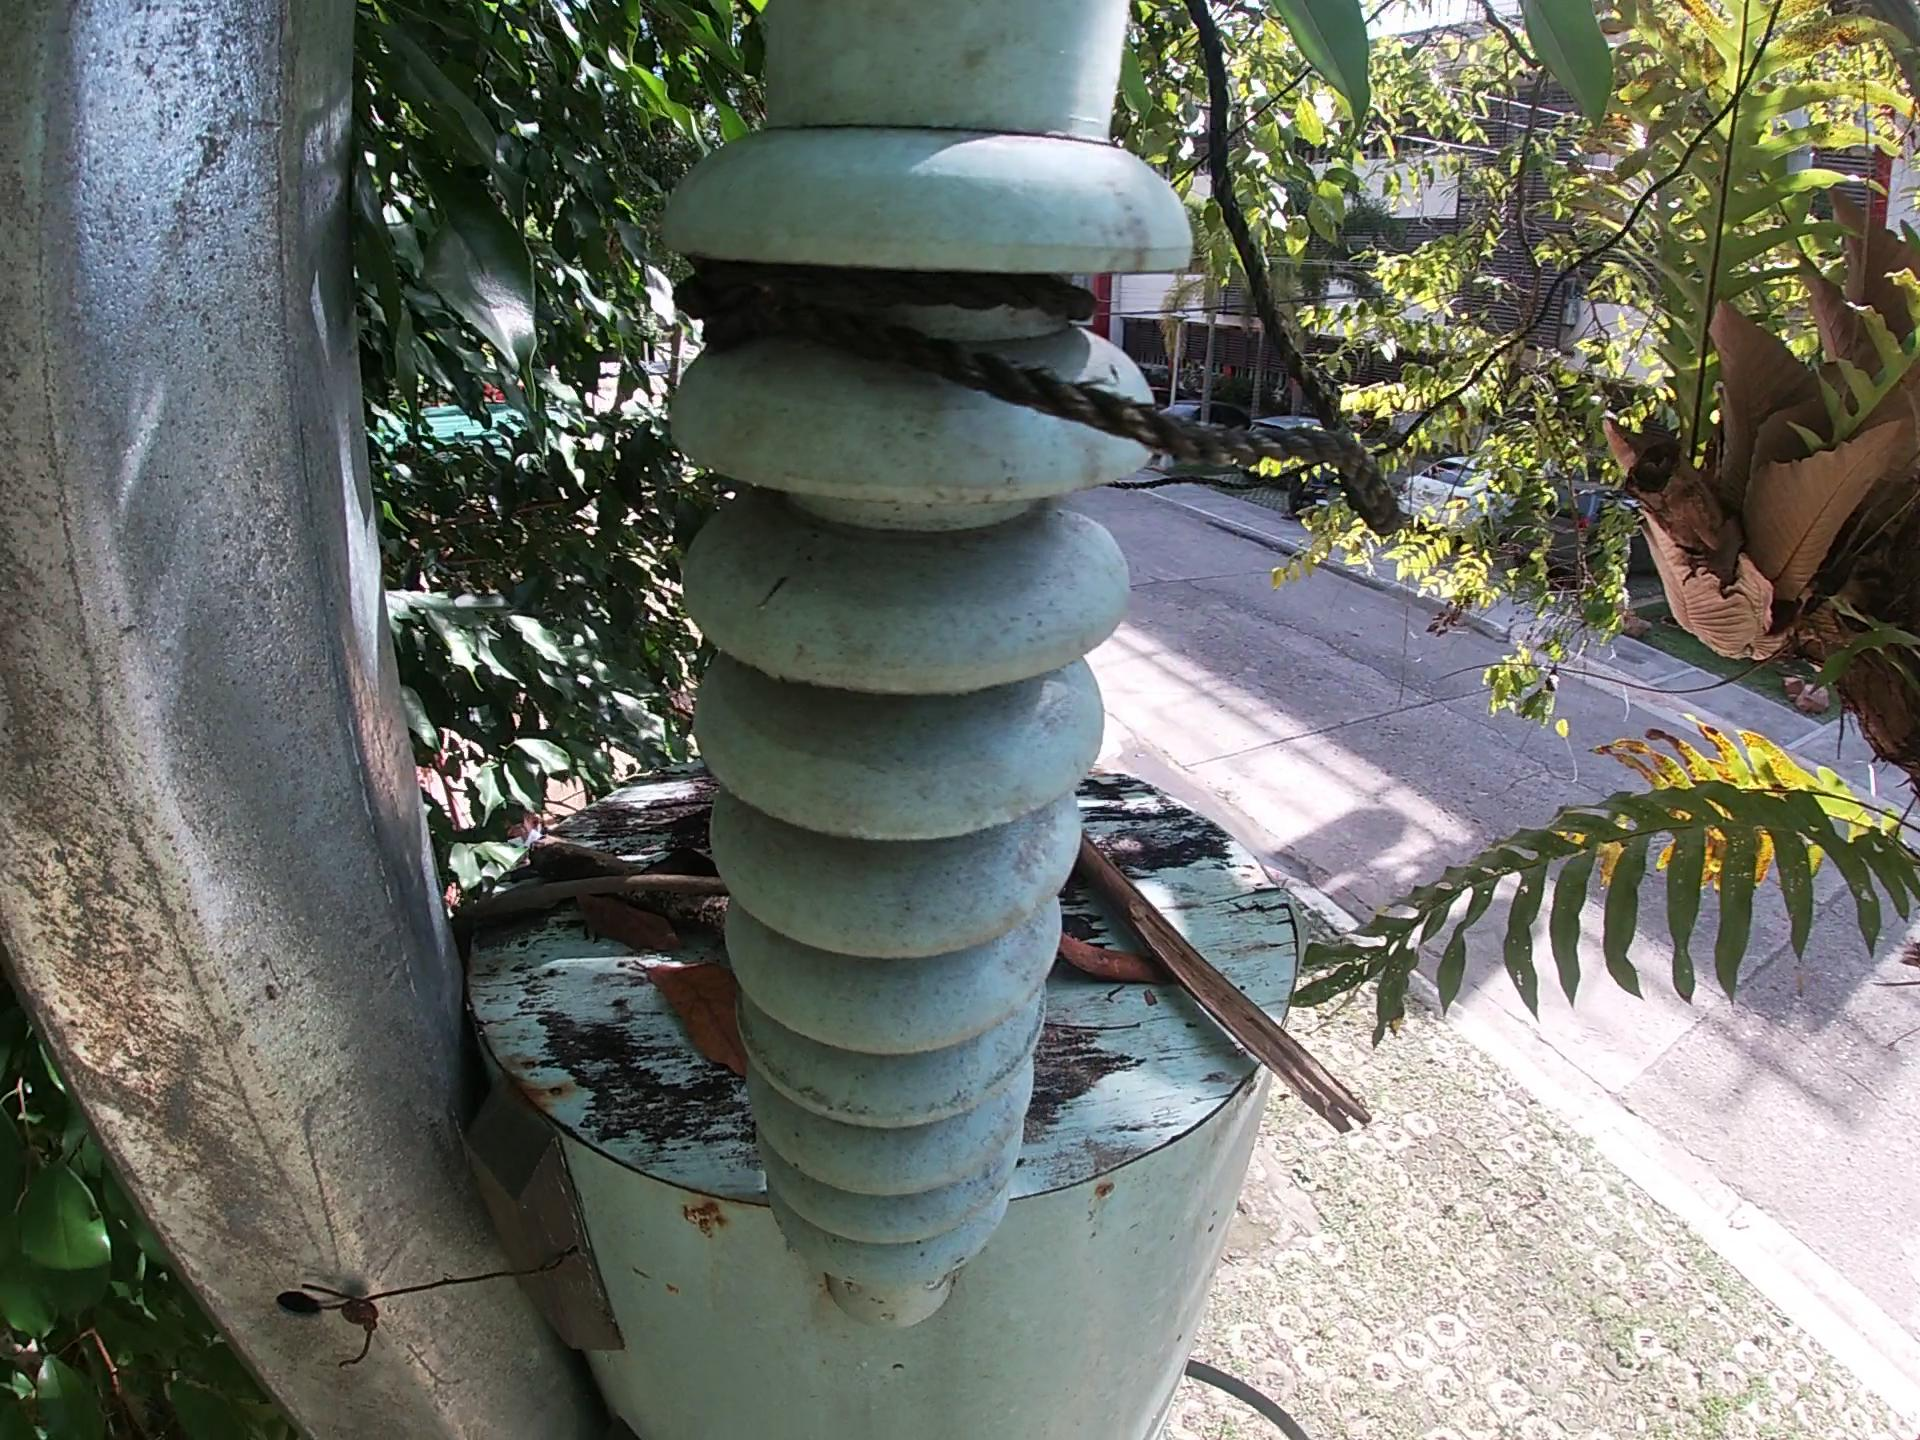leaf: (626, 951, 751, 1085), (567, 892, 679, 951), (643, 849, 720, 874)
mahogany fruit: (1052, 926, 1178, 991)
tree branch: (1069, 830, 1371, 1141), (525, 839, 732, 941), (444, 871, 729, 933)
